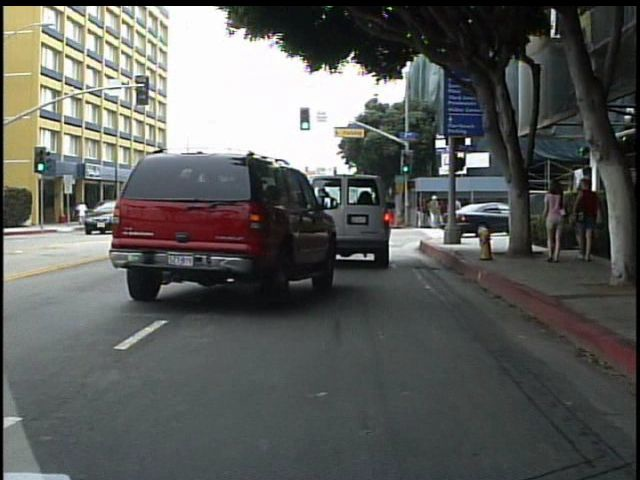person: (574, 173, 606, 265), (541, 174, 571, 265), (427, 191, 442, 228), (75, 198, 91, 228)
